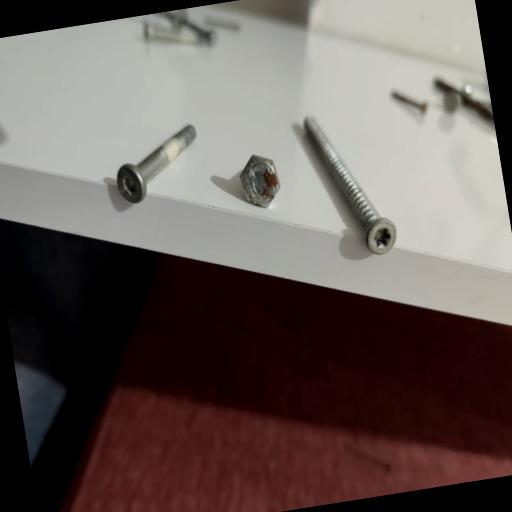Hex-Allen: (234, 148, 286, 214), (112, 159, 148, 207)
Torx: (360, 214, 401, 260)
